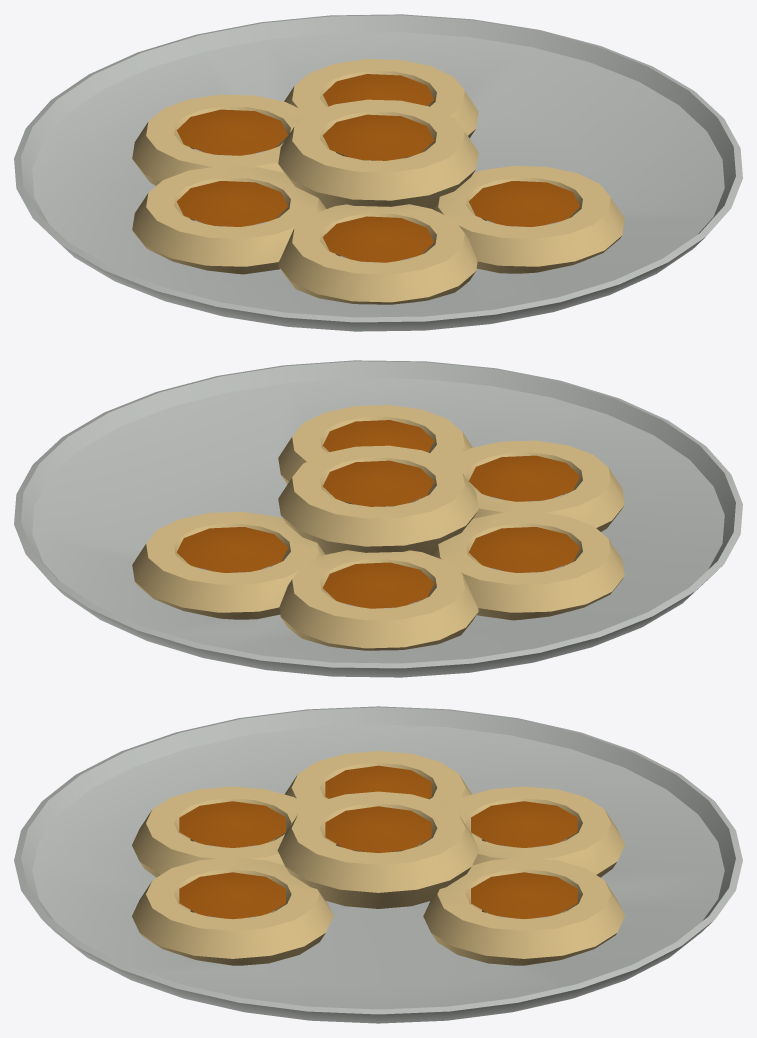
The model's file is fs-dish-lotus-root.glb.
3 renders of one model, top to bottom at view 1: azimuth 30°, elevation 25°; view 2: azimuth 150°, elevation 25°; view 3: azimuth 270°, elevation 25°, orthographic.
Parts seen in each view (by area): view 1: plate__ceramic, food__food, sauce__sauce; view 2: plate__ceramic, food__food, sauce__sauce; view 3: plate__ceramic, food__food, sauce__sauce.
Boxes of the visible parts, x1,y1,x2,y2 form: plate__ceramic: (14, 14, 742, 331); food__food: (132, 59, 624, 304); sauce__sauce: (176, 74, 580, 262); plate__ceramic: (14, 360, 742, 677); food__food: (132, 405, 624, 650); sauce__sauce: (176, 420, 580, 608); plate__ceramic: (14, 706, 742, 1023); food__food: (132, 751, 624, 965); sauce__sauce: (179, 765, 577, 919).
Bounding box in the file's own units: 0.26 × 0.034 × 0.26.
